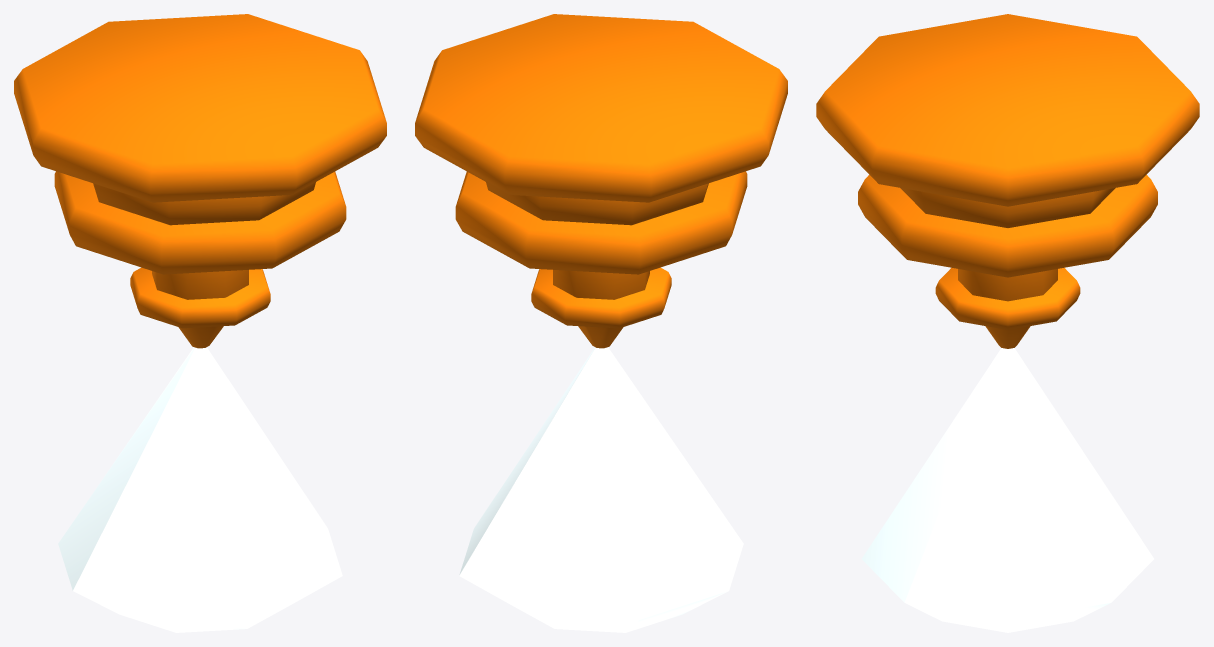
File: bronze_pommel_208.glb
3 views of the same model, side by side, from view 1: azimuth 30°, elevation 25°; view 2: azimuth 150°, elevation 25°; view 3: azimuth 270°, elevation 25° (orthographic).
Visible parts, largest first — view 1: bronze_pommel_208; view 2: bronze_pommel_208; view 3: bronze_pommel_208.
Boxes of the visible parts, box(x1,y1,x2,y2) form: bronze_pommel_208: box(14, 14, 386, 632); bronze_pommel_208: box(415, 14, 787, 632); bronze_pommel_208: box(816, 14, 1199, 632).
Bounding box in the file's own units: 1.76 × 2.54 × 1.76.
1 material, 1 textured.
